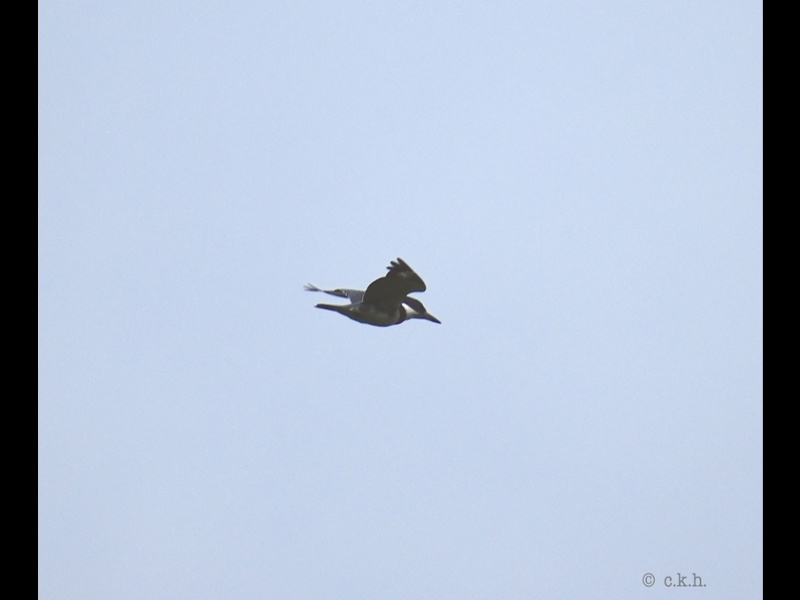kingfisher: (300, 257, 443, 335)
